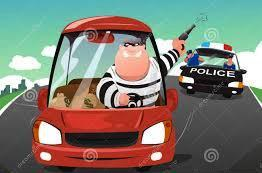car: (30, 12, 179, 168), (180, 42, 246, 101)
person: (93, 36, 188, 110), (183, 48, 205, 67), (221, 53, 238, 72)
